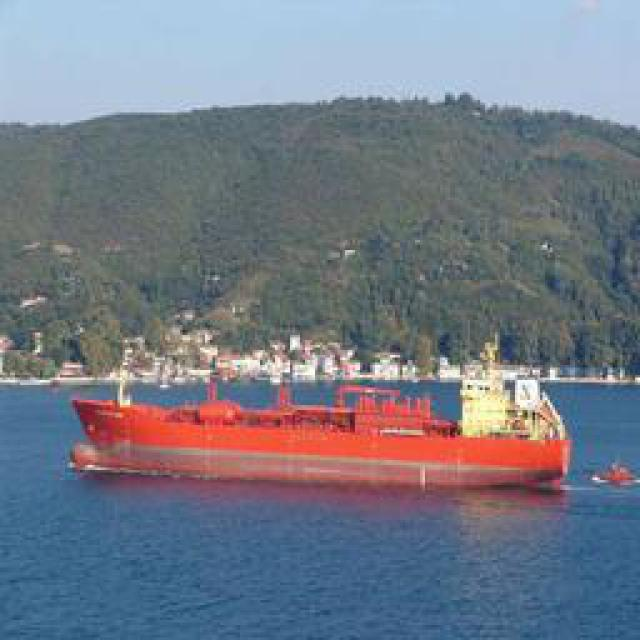Ship: (75, 382, 578, 490)
